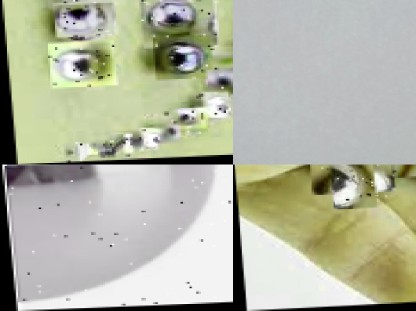ironball: (4, 165, 232, 310), (137, 0, 214, 51), (44, 41, 113, 89), (143, 38, 208, 83), (318, 164, 384, 203), (53, 0, 111, 40), (164, 110, 202, 138), (191, 94, 225, 121), (202, 70, 232, 99), (143, 116, 173, 145), (207, 47, 232, 76), (45, 0, 124, 9), (126, 129, 150, 152), (109, 136, 127, 161), (177, 0, 220, 9), (390, 164, 415, 179), (58, 143, 76, 163), (72, 145, 92, 162), (92, 142, 107, 160)
